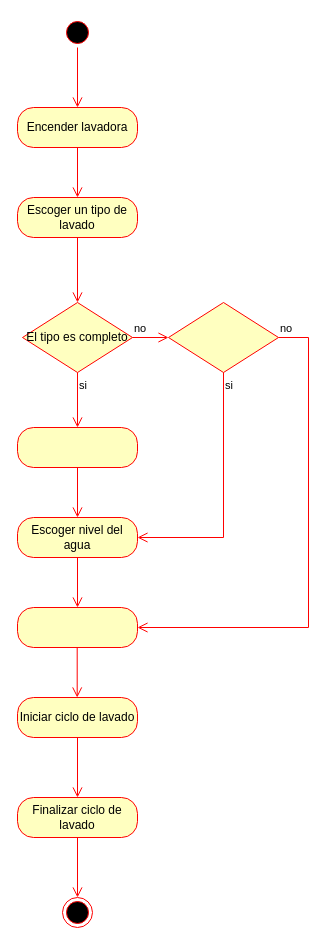
Some shapes in this 336 by 945 pixel diagram are drawn without their labels. Here are the shapes that lost their labels. From the top down, the centre of each, then its label:
At (x=223, y=337): "El tipo es lavar".
At (x=77, y=447): "Escoger el ciclo de lavado".
At (x=77, y=627): "Escoger el tiempo del ciclo de lavado".
